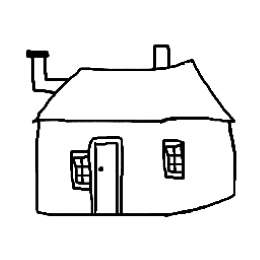chimney: (10, 46, 73, 96), (146, 30, 176, 76)
closed_window: (62, 140, 92, 194), (153, 136, 189, 181)
door: (86, 132, 129, 226)
roof: (31, 55, 235, 130)
wall: (27, 117, 245, 224)
